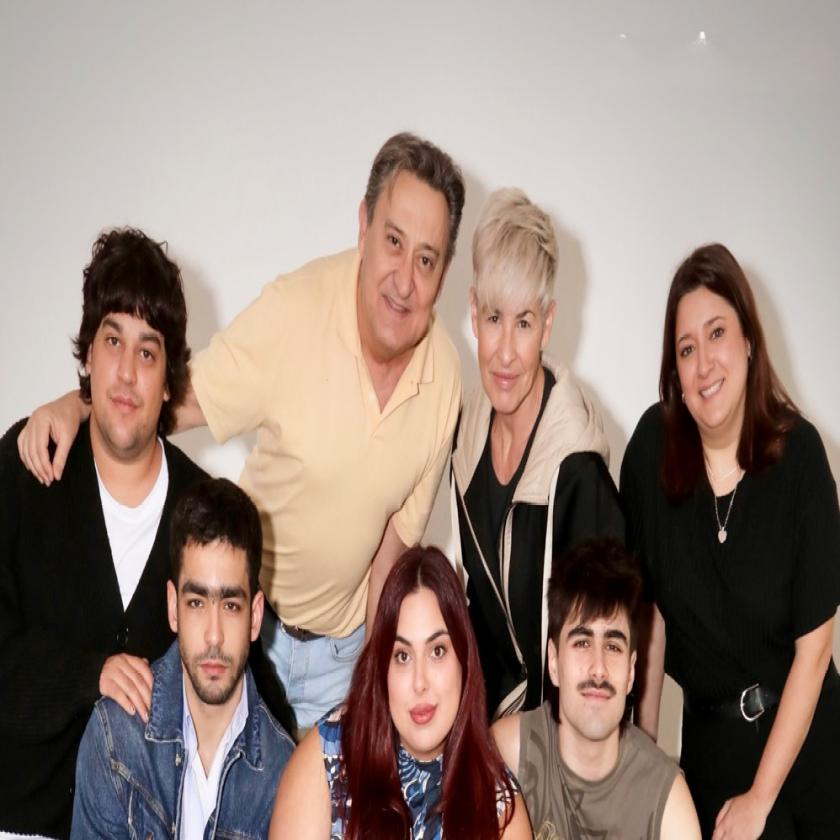Sin_casco: (346, 83, 472, 356), (535, 533, 649, 776), (355, 528, 482, 742), (80, 215, 189, 462), (161, 464, 272, 695), (661, 225, 772, 444), (463, 185, 563, 407)
